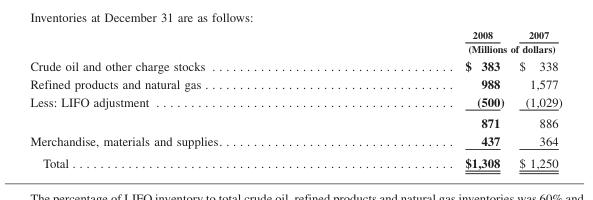table: (29, 28, 561, 169)
table column: (29, 28, 342, 169), (342, 28, 511, 169), (511, 28, 561, 169)
table column header: (29, 28, 561, 56)
table row: (29, 111, 561, 131), (29, 131, 561, 151), (29, 92, 561, 111), (29, 56, 561, 74), (29, 74, 561, 92), (29, 151, 561, 169), (29, 41, 561, 56), (29, 28, 561, 41)
table spanning cell: (342, 41, 561, 56)
